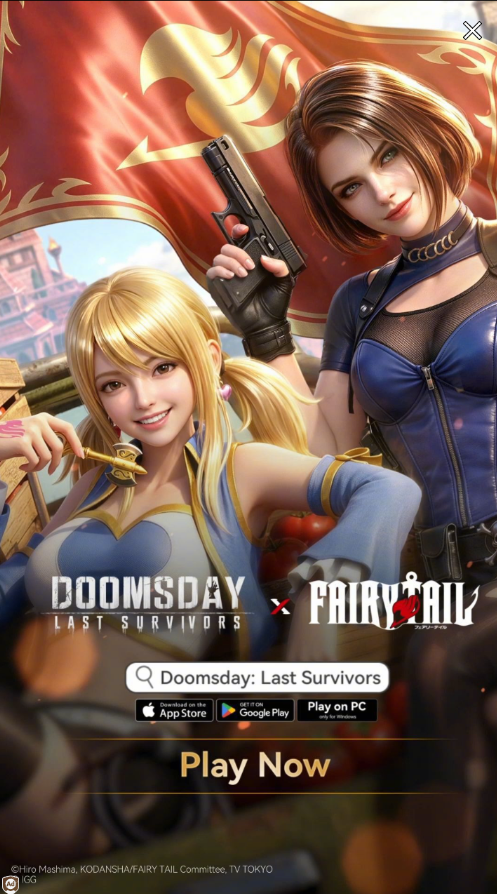close_button: (459, 16, 486, 43)
